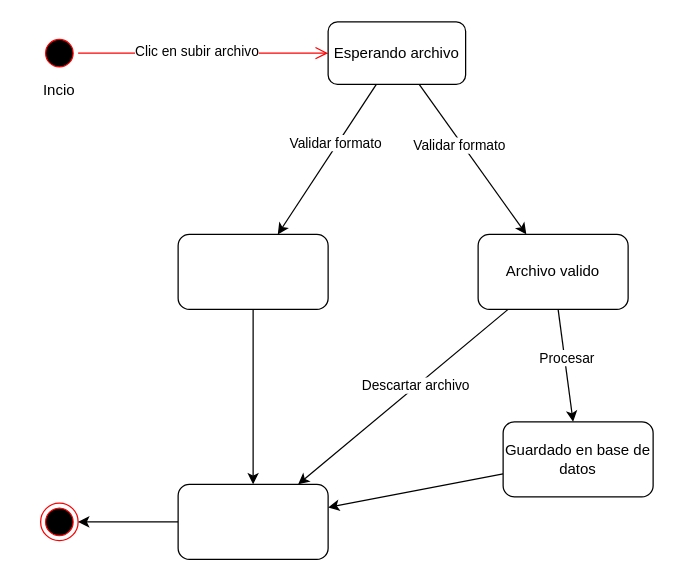
The diagram is 675 pixels wide and 581 high, and some of its shapes have lost their labels. The centre of each missing label's shape, as x and y in pixels:
"Archivo no cumple formato" goes at point (252, 271).
"Notificar al ususario" goes at point (252, 521).
